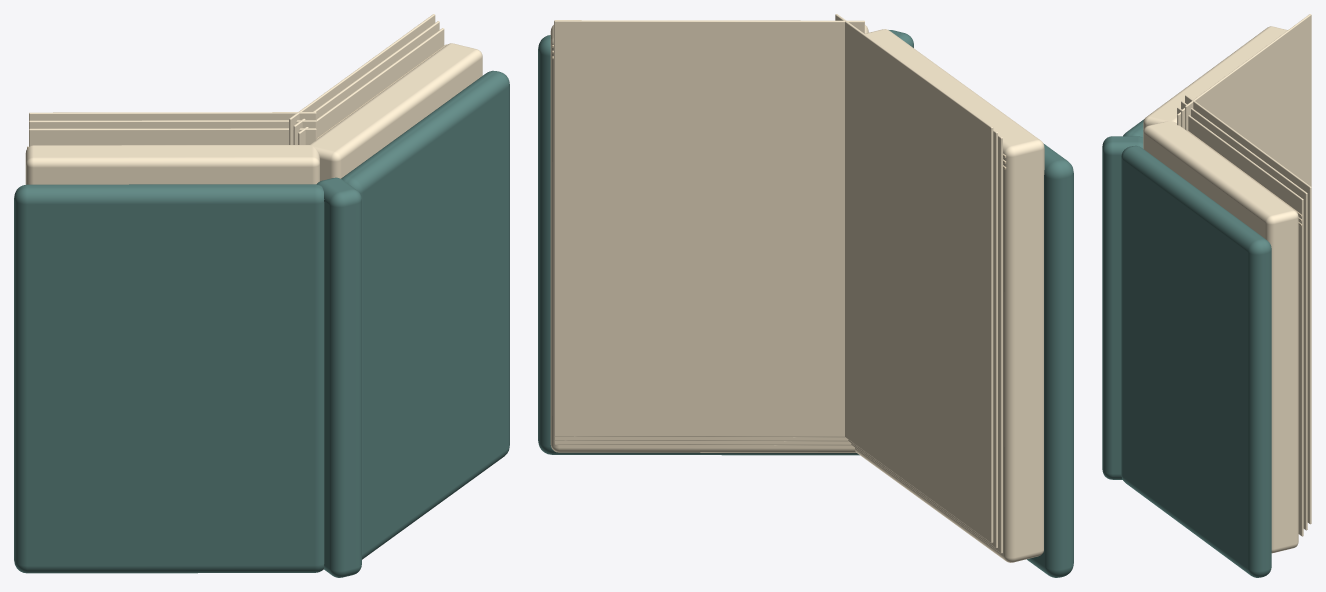
Rendered from open-book.glb.
The picture shows the model from 3 angles, left to right: view 1: azimuth 30°, elevation 25°; view 2: azimuth 150°, elevation 25°; view 3: azimuth 270°, elevation 25°; orthographic projection. The views are drawn at different scales.
Visible parts, largest first — view 1: Book_left_leaf_cover, Book_right_leaf_cover, Book_spine, Book_left_leaf_pages, Book_left_leaf, Book_right_leaf_pages, Book_right_leaf; view 2: Book_right_leaf, Book_left_leaf, Book_left_leaf_pages, Book_left_leaf_cover, Book_right_leaf_cover, Book_right_leaf_pages; view 3: Book_right_leaf_cover, Book_right_leaf_pages, Book_left_leaf, Book_right_leaf, Book_spine, Book_left_leaf_pages.
Part boxes in pixels (box(x1,y1,x2,y2)): Book_left_leaf_cover: box(14, 184, 324, 573); Book_right_leaf_cover: box(341, 70, 509, 559); Book_spine: box(316, 177, 361, 577); Book_left_leaf_pages: box(25, 145, 319, 184); Book_left_leaf: box(27, 112, 316, 148); Book_right_leaf_pages: box(309, 43, 482, 181); Book_right_leaf: box(289, 14, 446, 144); Book_right_leaf: box(552, 20, 864, 445); Book_left_leaf: box(835, 14, 1006, 553); Book_left_leaf_pages: box(855, 29, 1044, 562); Book_left_leaf_cover: box(1027, 143, 1073, 577); Book_right_leaf_cover: box(538, 35, 859, 455); Book_right_leaf_pages: box(550, 25, 868, 452); Book_right_leaf_cover: box(1121, 145, 1271, 577); Book_right_leaf_pages: box(1143, 121, 1298, 553); Book_left_leaf: box(1177, 14, 1311, 186); Book_right_leaf: box(1177, 95, 1311, 536); Book_spine: box(1102, 136, 1143, 479); Book_left_leaf_pages: box(1143, 26, 1287, 130).
Size of the model in its own units: 0.8693 by 0.725 by 0.3654.
